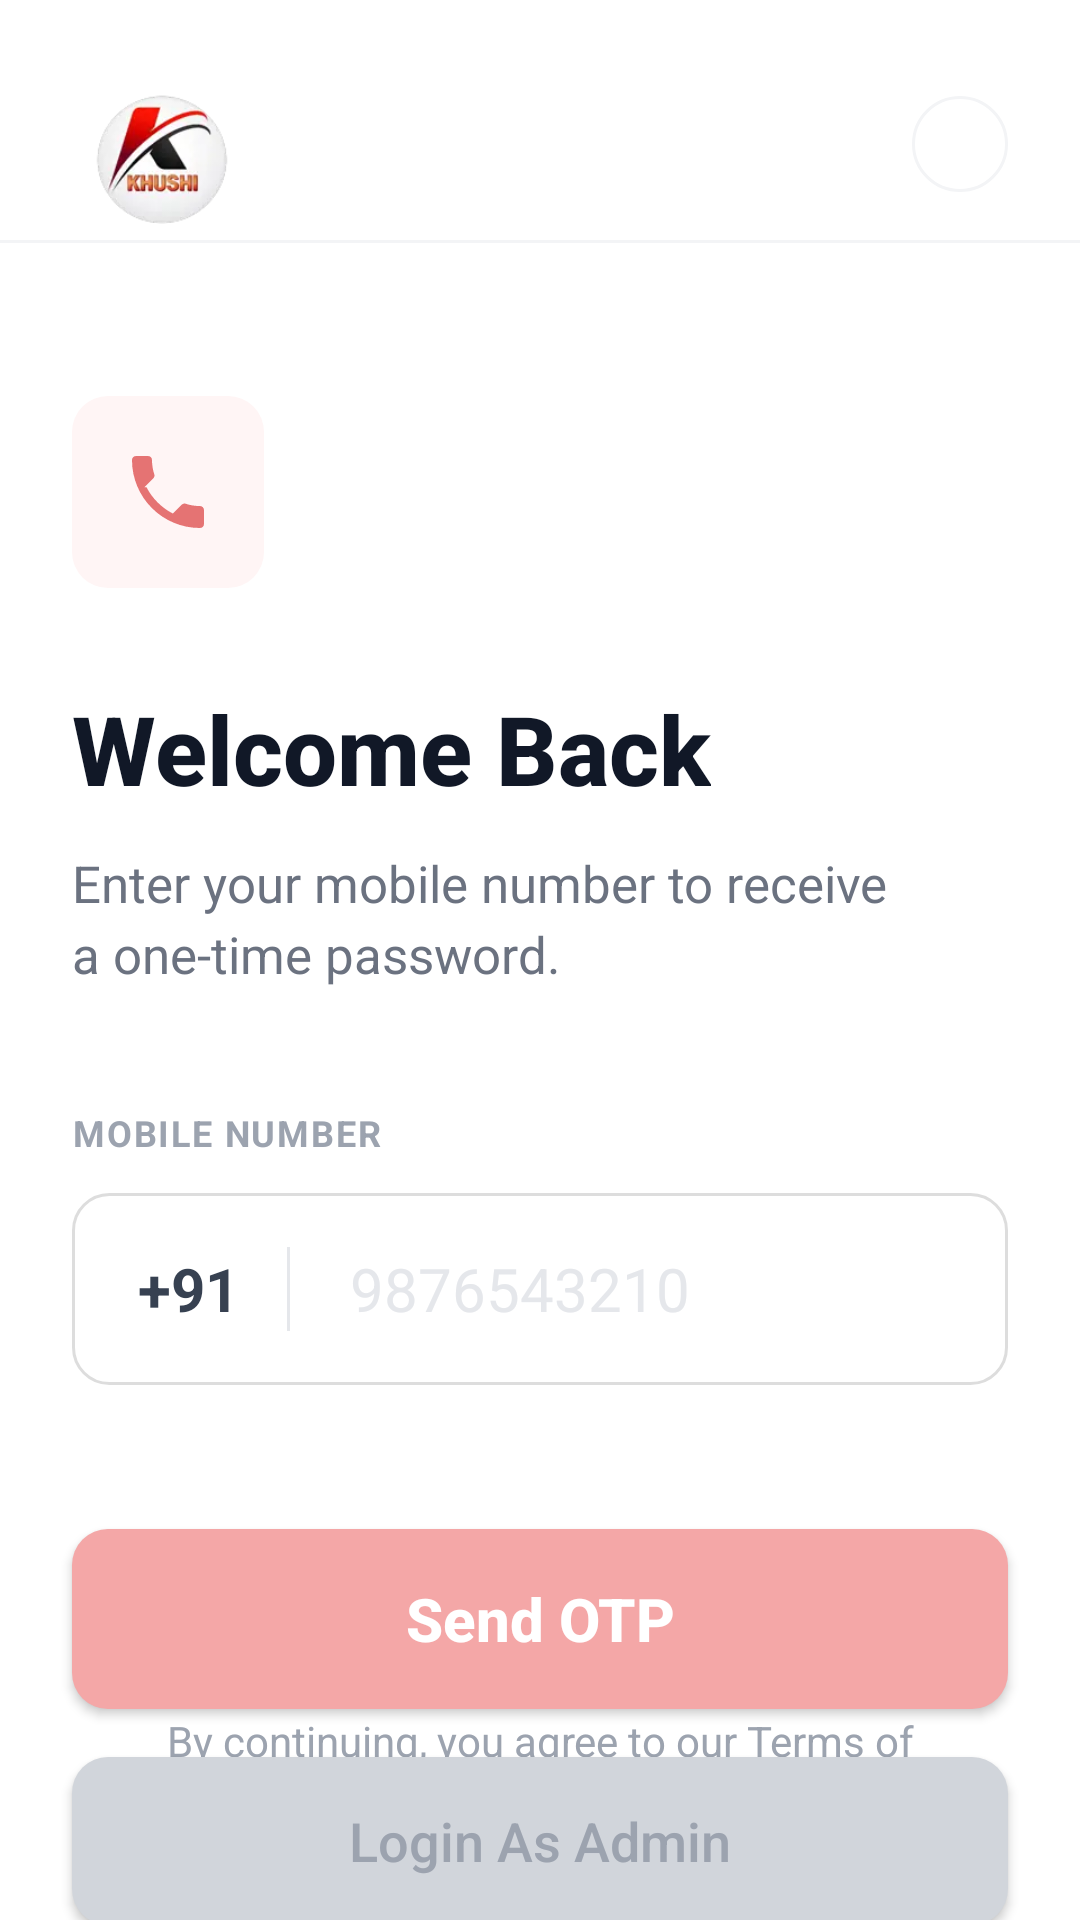

Icons on this 1080w x 1920h Android screen, each with its box as (x1, y1, x2, y2):
phone: (132, 456, 204, 528)
